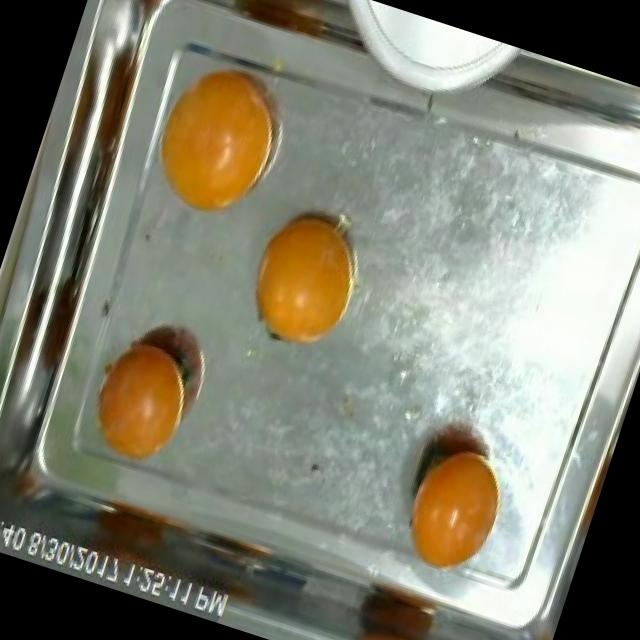Fruit: (121, 26, 315, 245), (225, 185, 378, 367), (66, 312, 215, 488), (378, 422, 522, 592), (330, 553, 468, 640)
